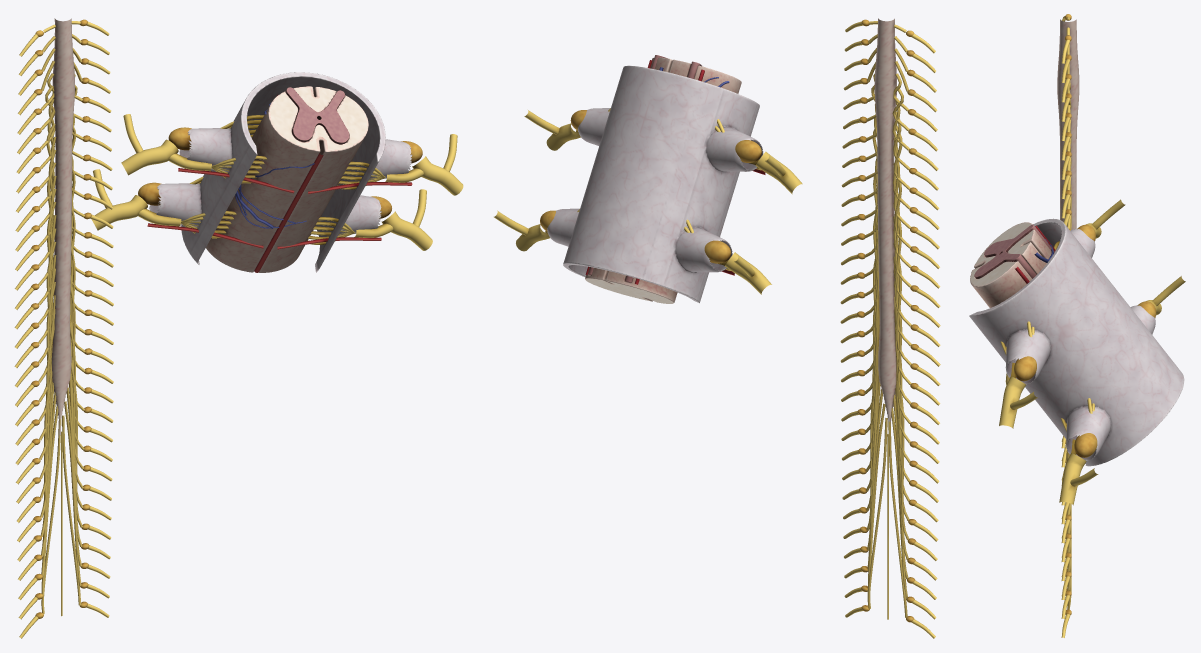
File: spinal-cord.785378d1.glb
3 renders of one model, left to right at view 1: azimuth 30°, elevation 25°; view 2: azimuth 150°, elevation 25°; view 3: azimuth 270°, elevation 25°, orthographic.
Parts seen in each view (by area): view 1: Spinal nerve roots, White matter, Dura mater, Spinal cord, Spinal nerves, Dorsal and ventral roots, Spinal ganglia, Spinal arteries, Grey matter, Dorsal root ganglia, Spinal veins; view 2: Dura mater, Spinal nerve roots, Spinal cord, Spinal nerves, Spinal ganglia, White matter, Dorsal root ganglia; view 3: Dura mater, White matter, Spinal nerves, Spinal nerve roots, Spinal cord, Dorsal root ganglia, Grey matter, Spinal ganglia, Dorsal and ventral roots.
Part boxes in pixels (left/top/right/bottom): Spinal nerve roots: left=14, top=21, right=113, bottom=638; White matter: left=206, top=86, right=368, bottom=272; Dura mater: left=149, top=72, right=412, bottom=272; Spinal cord: left=51, top=18, right=74, bottom=435; Spinal nerves: left=91, top=114, right=463, bottom=250; Dorsal and ventral roots: left=138, top=115, right=423, bottom=244; Spinal ganglia: left=31, top=19, right=92, bottom=618; Spinal arteries: left=147, top=94, right=412, bottom=272; Grey matter: left=285, top=87, right=349, bottom=144; Dorsal root ganglia: left=138, top=127, right=422, bottom=218; Spinal veins: left=235, top=103, right=314, bottom=228; Dura mater: left=547, top=65, right=763, bottom=303; Spinal nerve roots: left=840, top=21, right=940, bottom=638; Spinal cord: left=874, top=18, right=896, bottom=425; Spinal nerves: left=494, top=110, right=802, bottom=294; Spinal ganglia: left=857, top=19, right=918, bottom=622; White matter: left=585, top=57, right=741, bottom=303; Dorsal root ganglia: left=540, top=110, right=761, bottom=263; Dura mater: left=969, top=218, right=1184, bottom=466; White matter: left=970, top=222, right=1051, bottom=308; Spinal nerves: left=999, top=199, right=1185, bottom=505; Spinal nerve roots: left=1061, top=16, right=1071, bottom=637; Spinal cord: left=1057, top=19, right=1079, bottom=229; Dorsal root ganglia: left=1014, top=224, right=1156, bottom=457; Grey matter: left=974, top=224, right=1054, bottom=278; Spinal ganglia: left=1065, top=14, right=1071, bottom=614; Dorsal and ventral roots: left=1000, top=241, right=1094, bottom=461.
Size of the model in its own units: 2.82 by 3.83 by 1.26.
